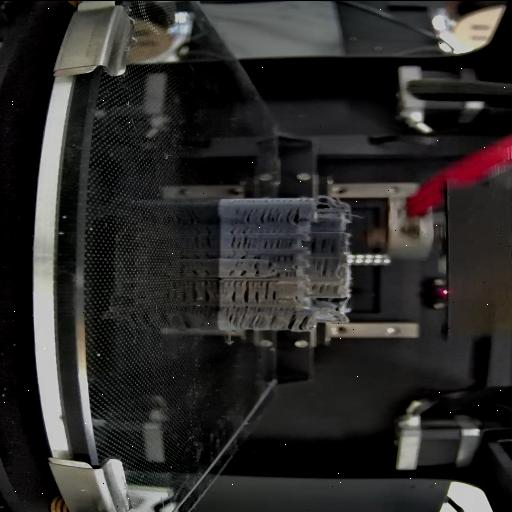cracks: (228, 225, 296, 249), (226, 304, 278, 328), (240, 204, 302, 224), (224, 280, 262, 302), (310, 235, 339, 254), (288, 308, 312, 330), (312, 256, 338, 276), (262, 279, 280, 299), (312, 281, 338, 294), (252, 254, 264, 276), (274, 268, 298, 278), (276, 252, 298, 262), (226, 268, 248, 276), (225, 252, 250, 258), (266, 259, 274, 269)
